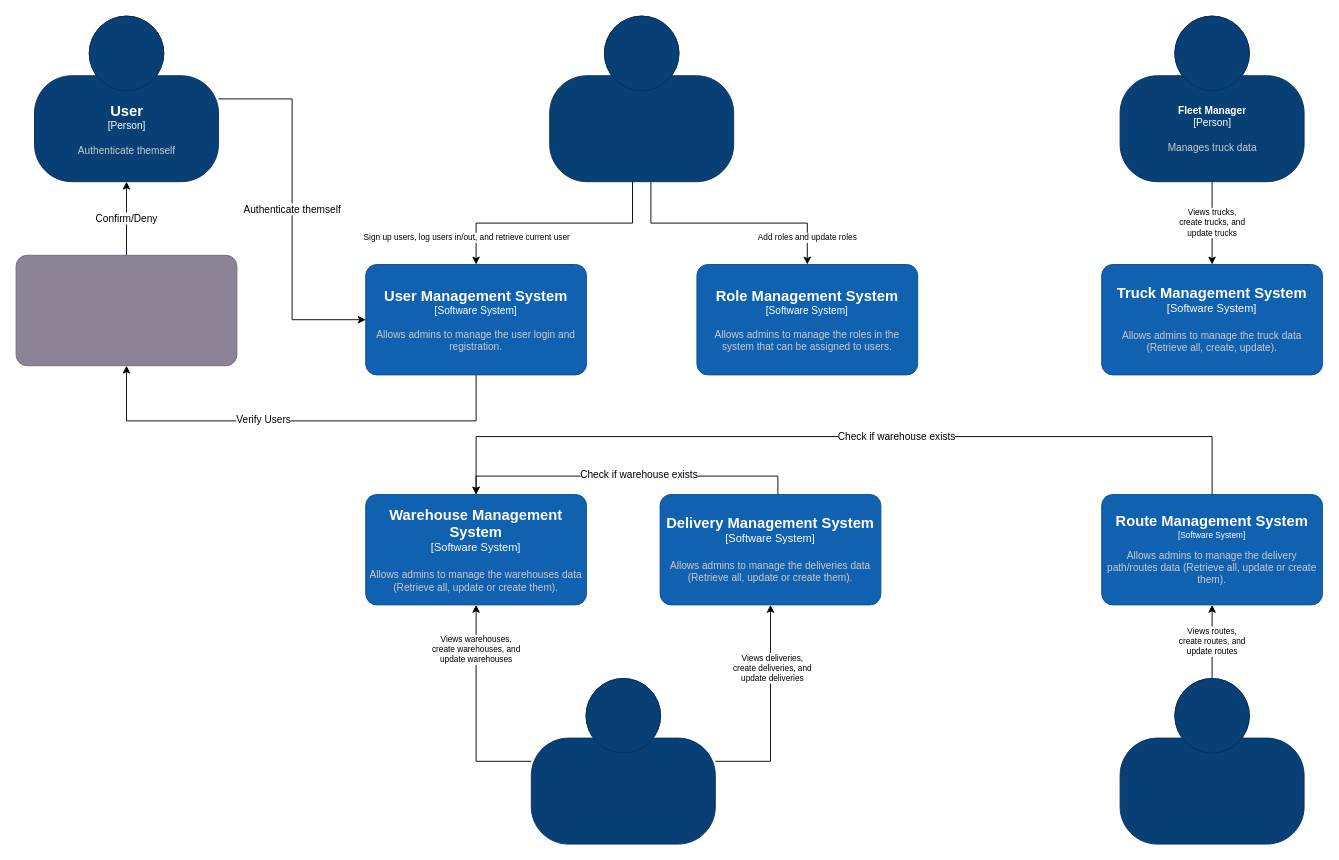
Image size: 1339x860. Some labels were removed from this diagram. Here are the shapes that lost their labels. From the top down, the box of each, then its label:
(549, 15, 734, 182): System Administrator [Person] Manages users and their authorizations
(15, 254, 237, 366): External SSO API [Software System] Authenticates users
(530, 678, 715, 844): Warehouse Manager [Person] Manages warehouse and delivery data
(1119, 678, 1304, 844): Logistics Manager [Person] Manages route data and distribution planning
